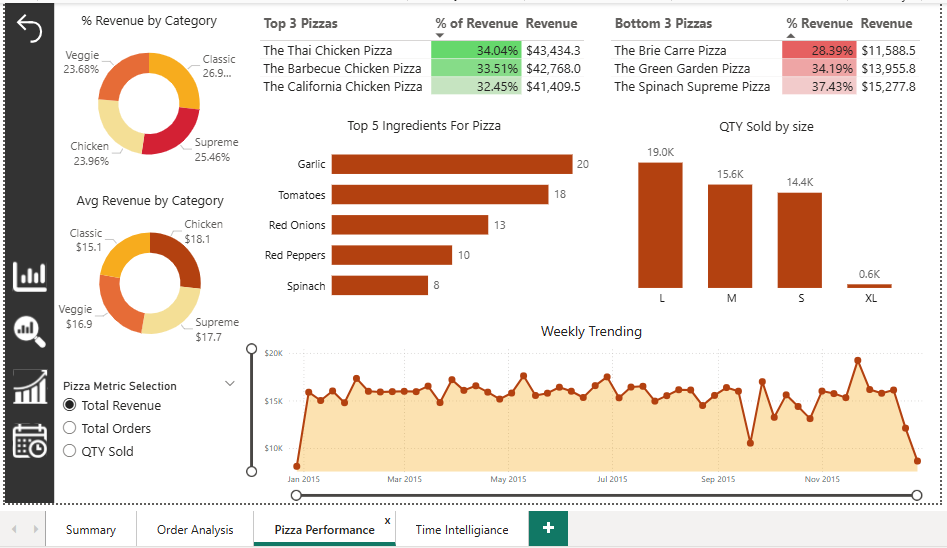

The dashboard page shown, as its layout file describes it:
{"tool":"powerbi","page":{"name":"Pizza Performance","canvas":[1345,720],"ordinal":2},"visuals":[{"type":"clusteredColumnChart","fields":{"Category":["pizzas.size"],"Y":["Measures Table.QTY Sold"]},"box":[866.7,163.8,459.4,281.2],"z":0},{"type":"donutChart","title":"% Revenue by Category","fields":{"Category":["Pizza Types.category"],"Y":["Measures Table.Total Revenue"]},"box":[70.9,11.6,273.3,241.5],"z":1000},{"type":"tableEx","fields":{"Values":["Pizza Types.name","Measures Table.Total Revenue","Measures Table.Total Revenue1"]},"box":[361.6,11.6,483,133.1],"z":2000},{"type":"tableEx","fields":{"Values":["Pizza Types.name","Measures Table.Total Revenue","Measures Table.Total Revenue1"]},"box":[866.9,11.5,459.4,132.5],"z":3000},{"type":"donutChart","title":"Avg Revenue by Category","fields":{"Category":["Pizza Types.category"],"Y":["Measures Table.Avg Pizza Price"]},"box":[72,270.7,273.6,240.5],"z":4000},{"type":"slicer","fields":{"Values":["Pizza Metric Selection.Pizza Metric Selection"]},"box":[70.9,535.1,273.3,156.2],"z":5000},{"type":"lineChart","title":"Weekly Trending","fields":{"Y":["Measures Table.Total Revenue"],"Category":["Orders.Start of Week"]},"box":[344.2,458.5,1000.8,261.8],"z":6000},{"type":"clusteredBarChart","title":"Top 5 Ingredients For Pizza","fields":{"Category":["Ingredients.ingredients"],"Y":["Measures Table.Ingredient Count"]},"box":[361.6,163.4,484.5,282],"z":7000},{"type":"shape","box":[0,0,70.9,720.2],"z":8000},{"type":"actionButton","box":[7.5,444.8,64.6,57.1],"z":9000},{"type":"actionButton","box":[0,523.5,72.1,57.1],"z":10000},{"type":"actionButton","box":[7.5,602.1,63.1,57.1],"z":11000},{"type":"actionButton","box":[7.5,366.2,63.1,57.1],"z":12000},{"type":"actionButton","box":[8.7,8.7,53.5,56.4],"z":13000}]}

Visuals, with their boxes on the page's 1345x720 design canvas (x1, y1, x2, y2). These are canvas units, not pixel positions in the 947x548 screenshot, which may show the page scaled, cropped or inside an application window:
clusteredColumnChart - pizzas.size x Measures Table.QTY Sold: (867, 164, 1326, 445)
"% Revenue by Category" donutChart: (71, 12, 344, 253)
tableEx - Pizza Types.name x Measures Table.Total Revenue: (362, 12, 845, 145)
tableEx - Pizza Types.name x Measures Table.Total Revenue: (867, 12, 1326, 144)
"Avg Revenue by Category" donutChart: (72, 271, 346, 511)
slicer - Pizza Metric Selection.Pizza Metric Selection: (71, 535, 344, 691)
"Weekly Trending" lineChart: (344, 458, 1345, 720)
"Top 5 Ingredients For Pizza" clusteredBarChart: (362, 163, 846, 445)
shape: (0, 0, 71, 720)
actionButton: (8, 445, 72, 502)
actionButton: (0, 524, 72, 581)
actionButton: (8, 602, 71, 659)
actionButton: (8, 366, 71, 423)
actionButton: (9, 9, 62, 65)
